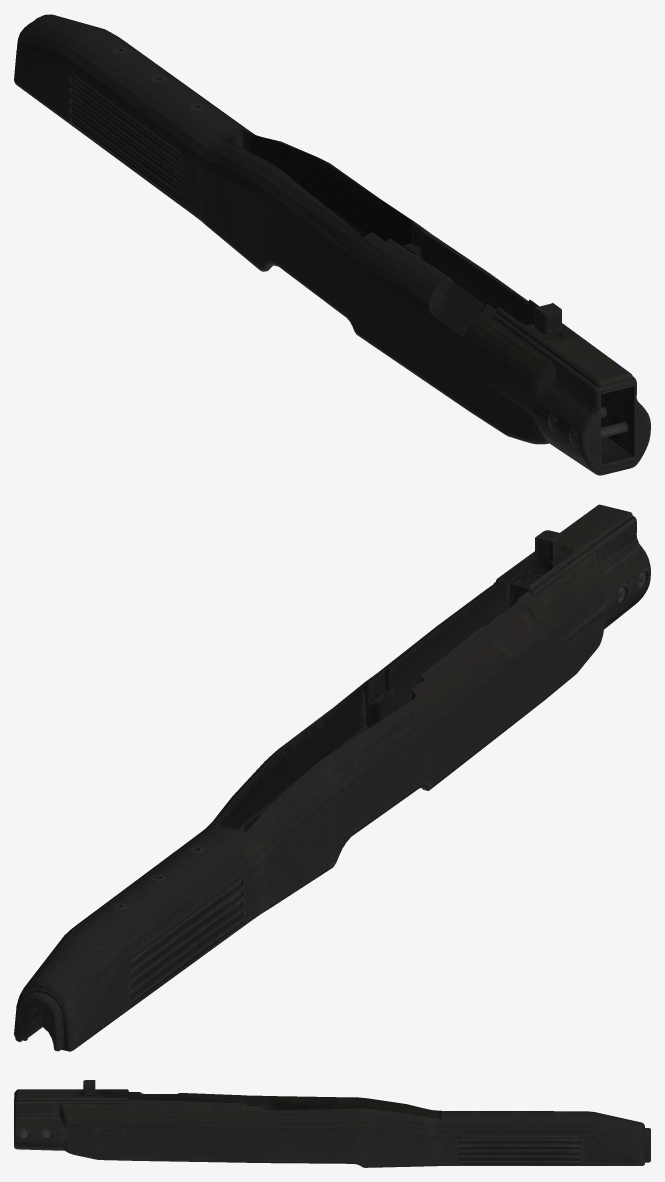
3 renders of one model, top to bottom at view 1: azimuth 30°, elevation 25°; view 2: azimuth 150°, elevation 25°; view 3: azimuth 270°, elevation 25°, orthographic. The views are drawn at different scales.
Parts seen in each view (by area): view 1: TW_5afd7ded5acfc40017541f5e_PZ_Import; view 2: TW_5afd7ded5acfc40017541f5e_PZ_Import; view 3: TW_5afd7ded5acfc40017541f5e_PZ_Import.
Part boxes in pixels (bbox=[...]): TW_5afd7ded5acfc40017541f5e_PZ_Import: bbox=[14, 14, 650, 475]; TW_5afd7ded5acfc40017541f5e_PZ_Import: bbox=[14, 504, 650, 1051]; TW_5afd7ded5acfc40017541f5e_PZ_Import: bbox=[14, 1080, 650, 1167].
Size of the model in its own units: 0.023 by 0.3045 by 0.0402.
Materials: 1 (1 with a texture image).
